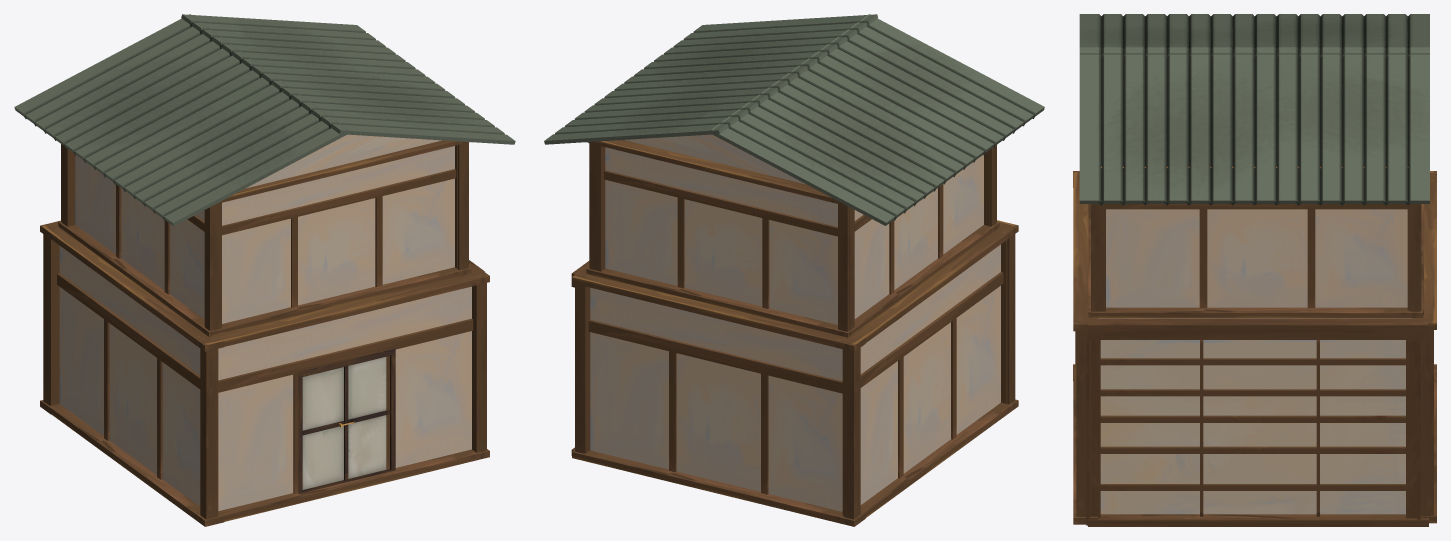
File: Nha 3.fbx
3 views of the same model, side by side, from view 1: azimuth 30°, elevation 25°; view 2: azimuth 150°, elevation 25°; view 3: azimuth 270°, elevation 25° (orthographic). The views are drawn at different scales.
Visible parts, largest first — view 1: Plane.068; view 2: Plane.068; view 3: Plane.068.
Boxes of the visible parts, x1,y1,x2,y2 form: Plane.068: [14, 14, 515, 526]; Plane.068: [544, 14, 1044, 526]; Plane.068: [1073, 14, 1436, 526].
Size of the model in its own units: 915 by 924 by 762.
